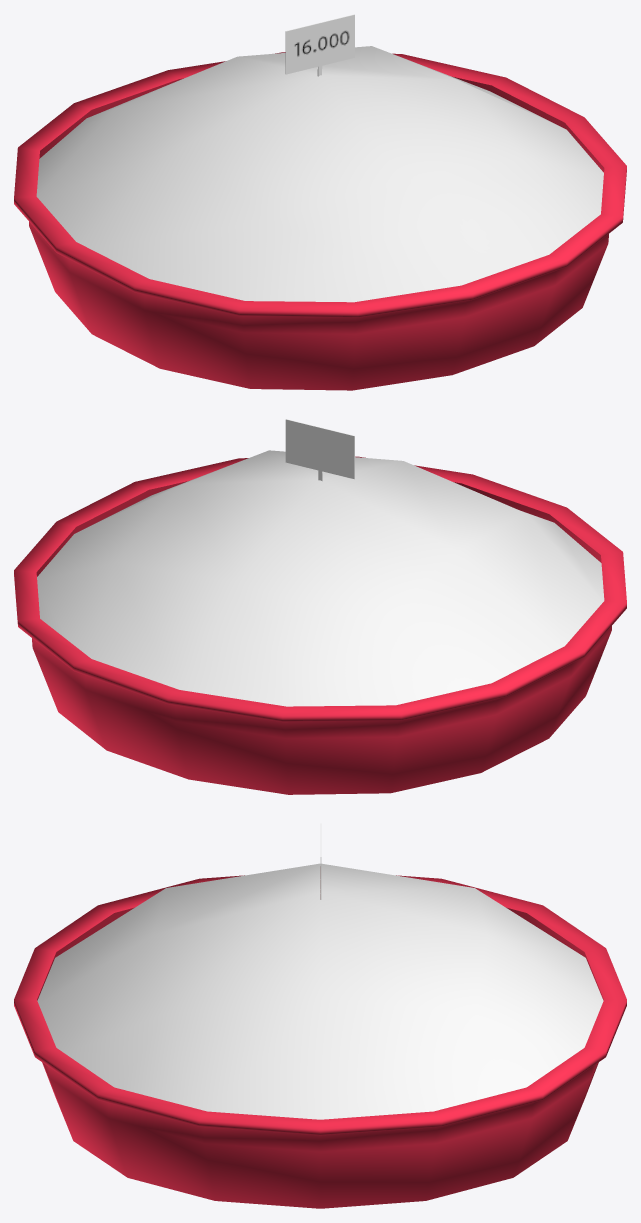
The model's file is Beras.fbx.
3 renders of one model, top to bottom at view 1: azimuth 30°, elevation 25°; view 2: azimuth 150°, elevation 25°; view 3: azimuth 270°, elevation 25°, orthographic.
Parts seen in each view (by area): view 1: Beras_LOD0, BaskomBeras_LOD0, TaghargaBeras_LOD0; view 2: Beras_LOD0, BaskomBeras_LOD0, TaghargaBeras_LOD0; view 3: Beras_LOD0, BaskomBeras_LOD0.
Part boxes in pixels (x1,y1,x2,y2): Beras_LOD0: (36,46,603,302); BaskomBeras_LOD0: (14,52,626,390); TaghargaBeras_LOD0: (285,14,354,76); Beras_LOD0: (37,450,604,706); BaskomBeras_LOD0: (14,456,626,794); TaghargaBeras_LOD0: (285,419,354,481); Beras_LOD0: (37,863,603,1119); BaskomBeras_LOD0: (14,875,626,1208).
Size of what is drawn, in the model's own units: 52.36 by 26.08 by 52.36.
